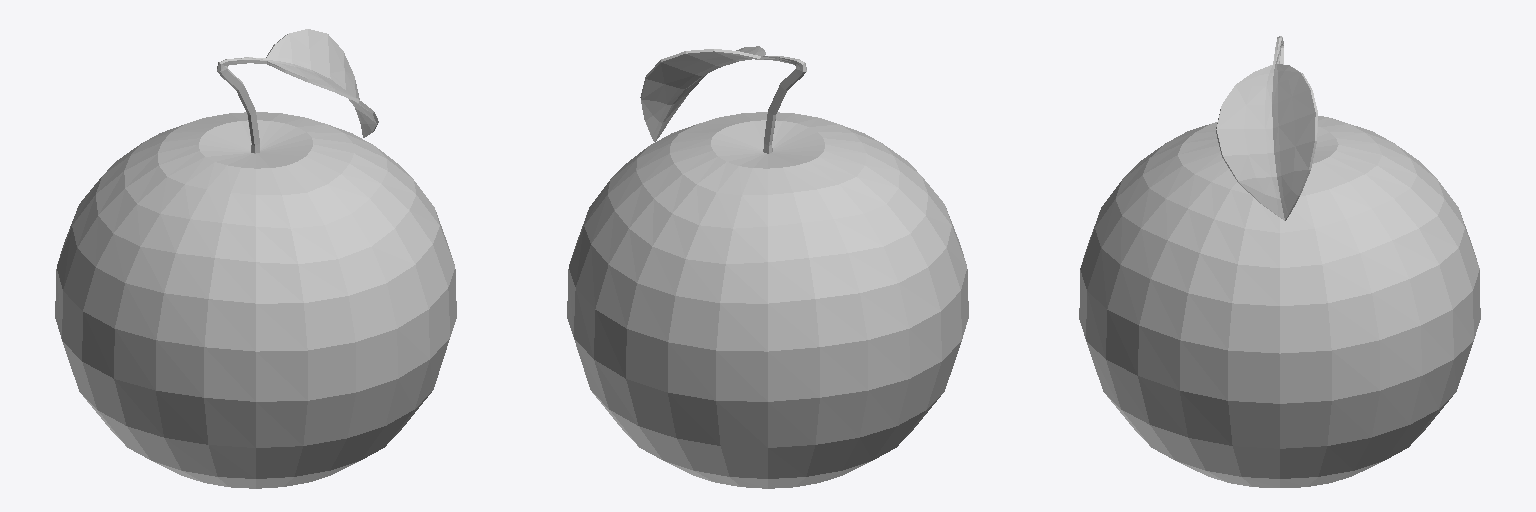
Rendered from orange.obj.
3 views of the same model, side by side, from view 1: azimuth 30°, elevation 25°; view 2: azimuth 150°, elevation 25°; view 3: azimuth 270°, elevation 25° (orthographic).
Visible parts, largest first — view 1: Orange; view 2: Orange; view 3: Orange.
Part boxes in pixels (bbox=[...]): Orange: bbox=[55, 29, 456, 488]; Orange: bbox=[567, 46, 968, 488]; Orange: bbox=[1079, 36, 1480, 487].
Bounding box in the file's own units: 79.21 × 89.02 × 79.21.